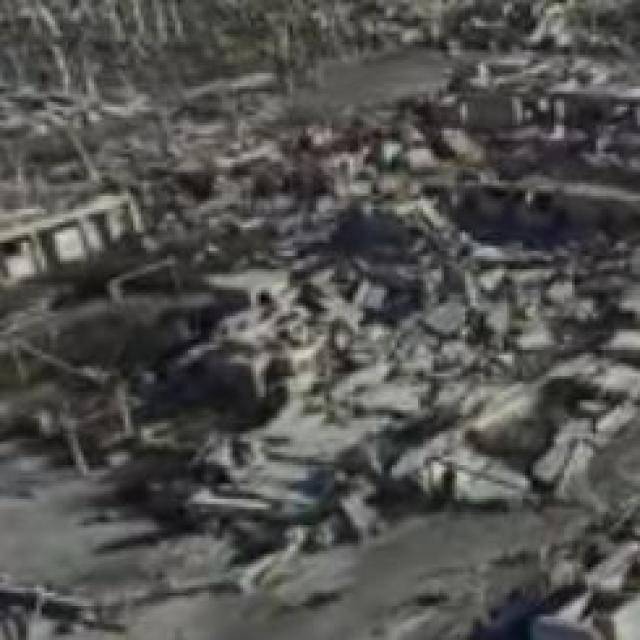collapsed_building: (60, 55, 635, 533)
